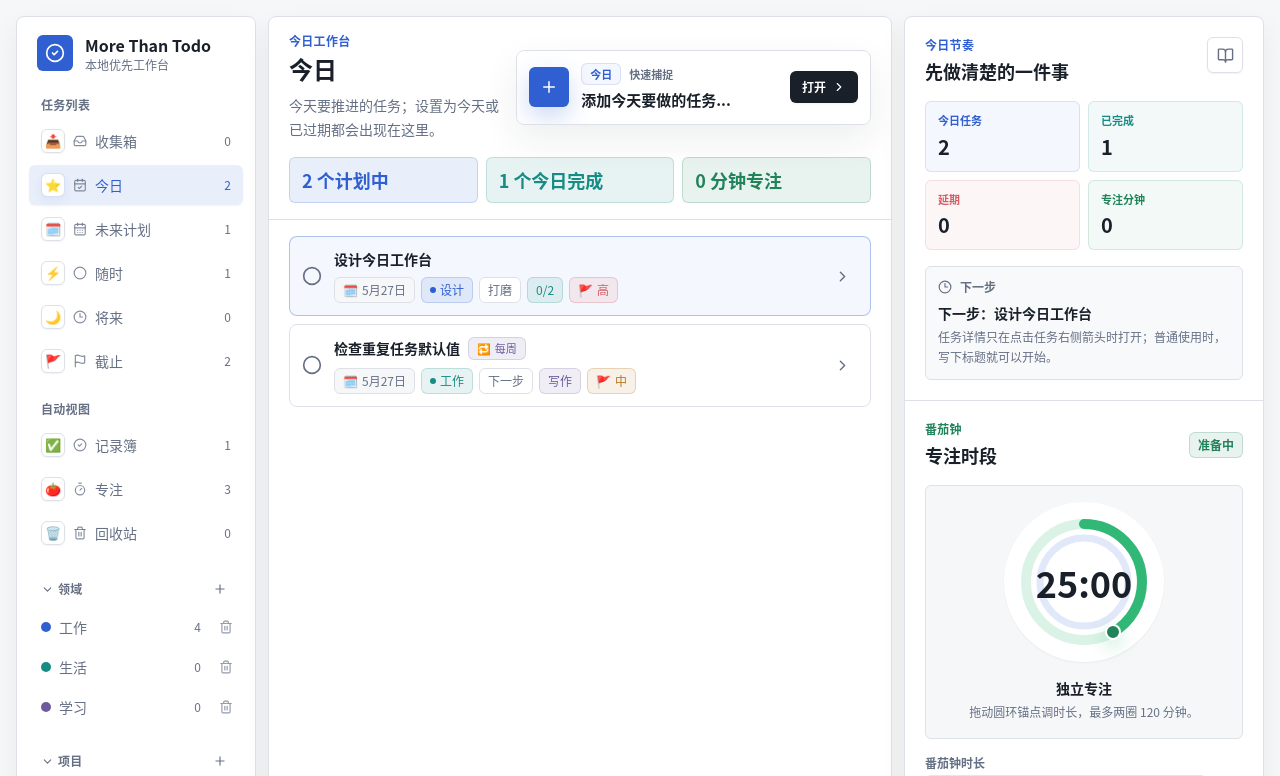
Scenario: More Than Todo app › shows future tasks in Upcoming and opens read-only task previews by date
Click the button "🗓️ 未来计划 1" at (136, 229), box [29,209,243,249]
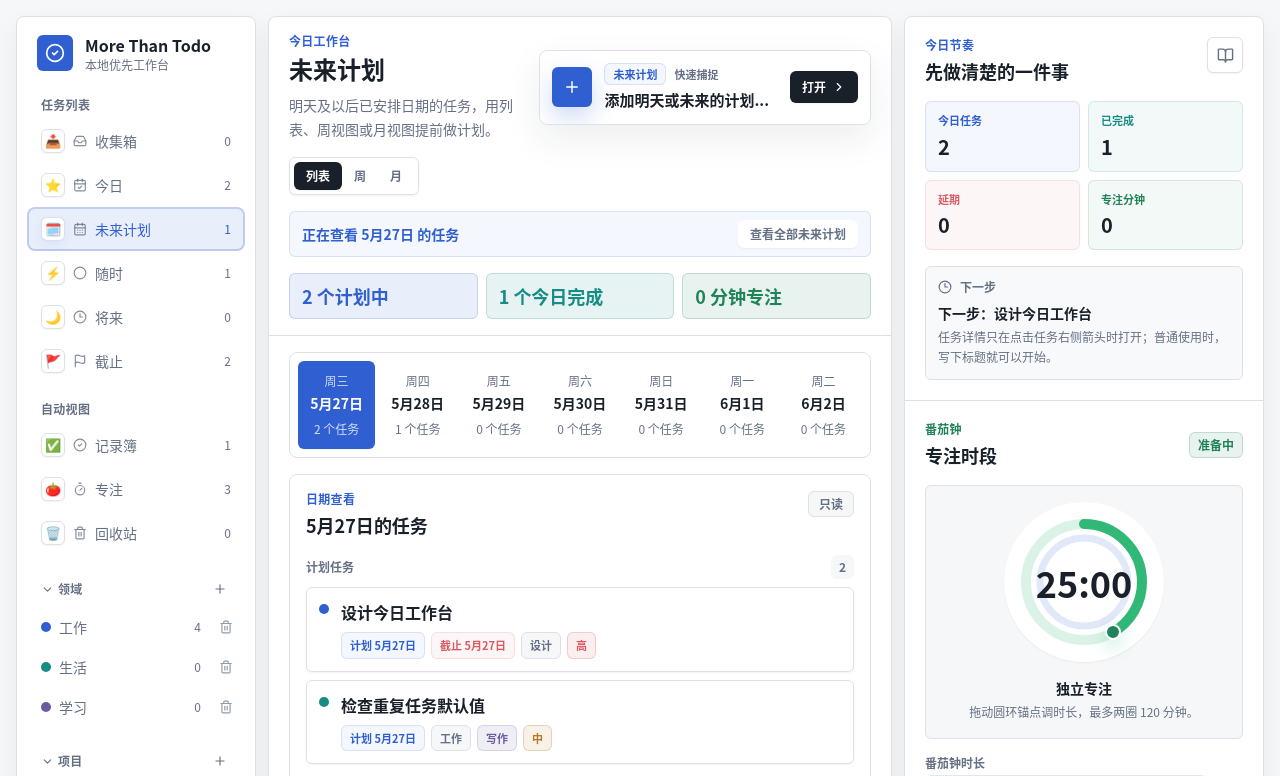
Expected: the heading "未来计划" is shown, [289,51,385,86]
Expected: the heading "5月27日的任务" is shown, [306,511,428,539]
Click the button "查看全部未来计划" at (798, 234), box [738,220,858,248]
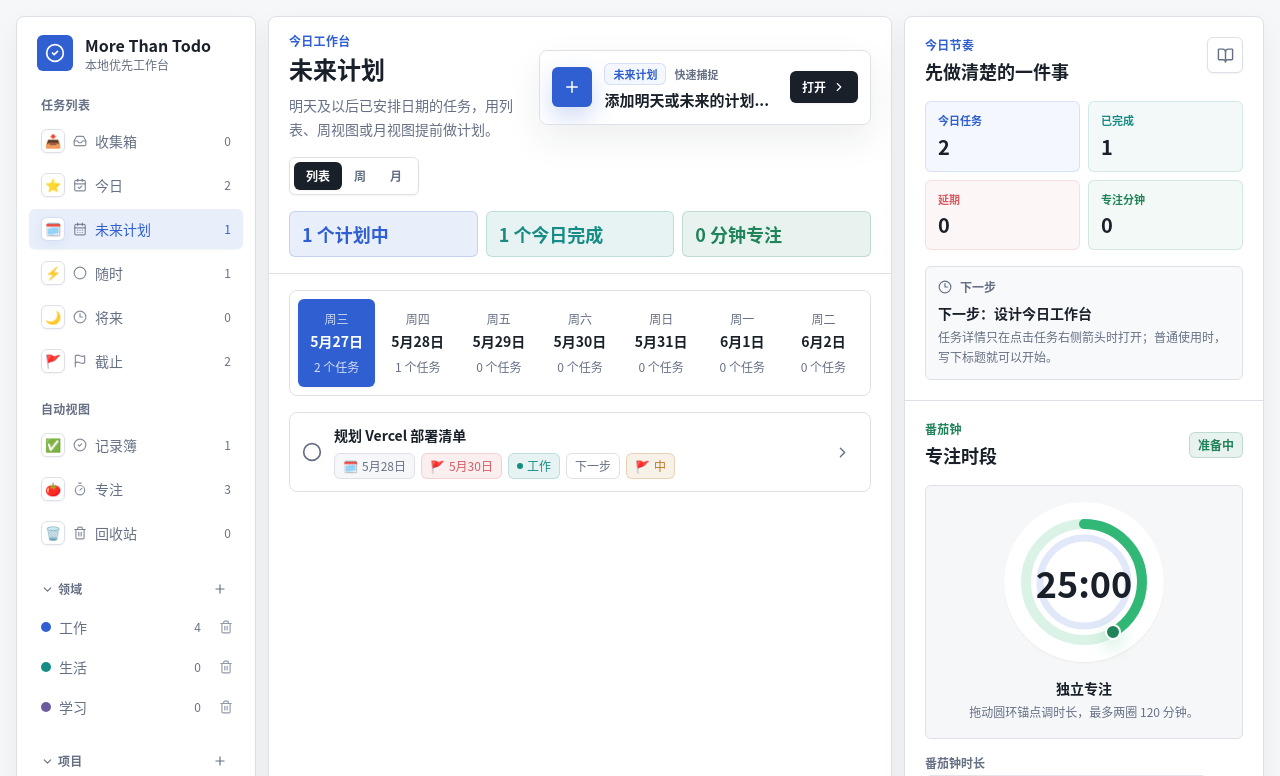
Expected: the button with aria-label "规划 Vercel 部署清单 5月28日 工作 中" is shown, [334,425,814,479]
Click the button "周" at (360, 176), box [342,162,378,190]
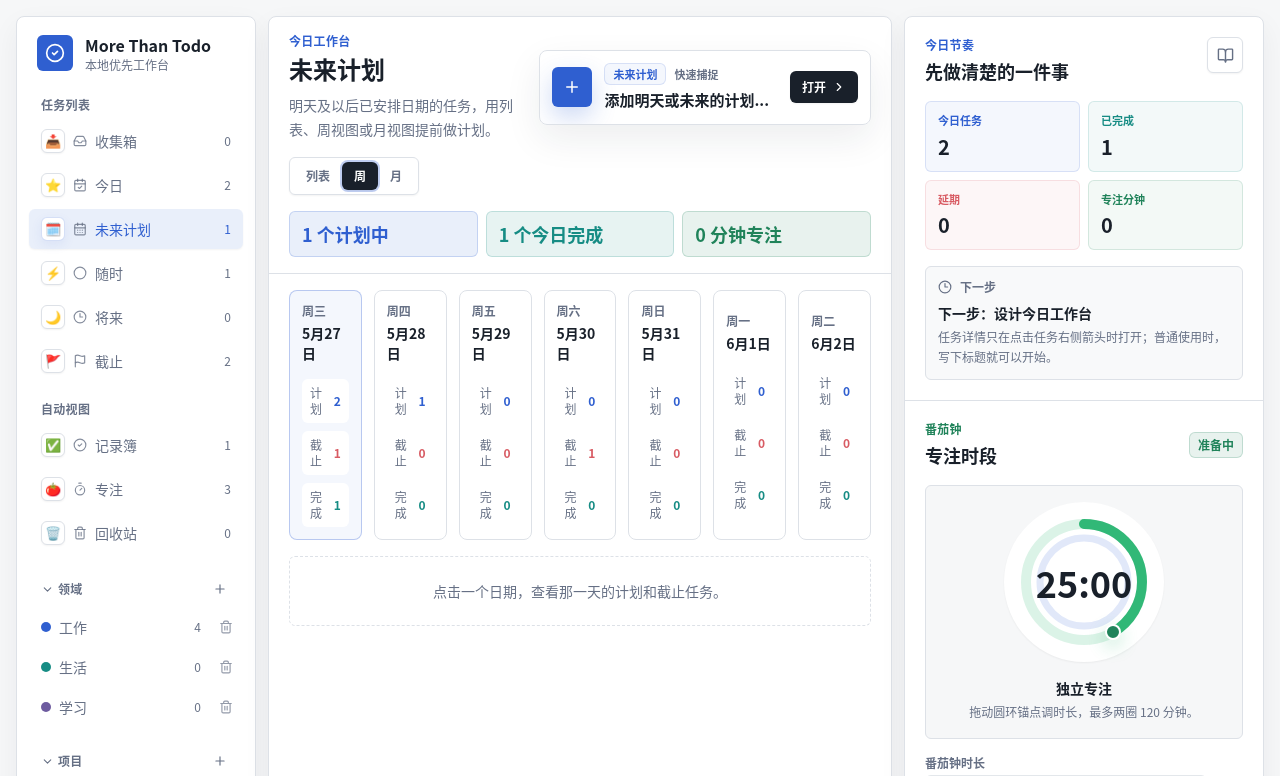
Click the button with aria-label "查看 5月28日任务" at (410, 415), box [374,290,447,540]
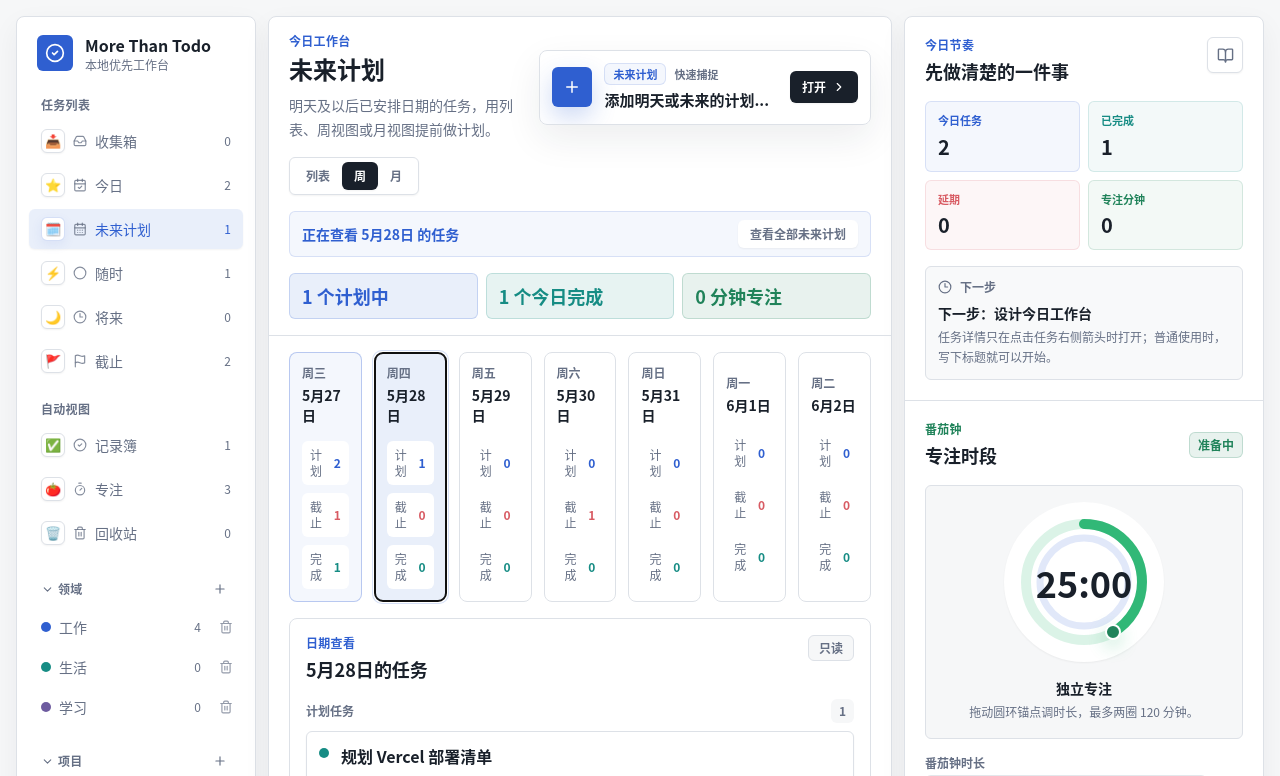
Expected: the heading "5月28日的任务" is shown, [306,655,428,683]
Expected: the text "规划 Vercel 部署清单" is shown, [341,744,492,768]
Click the button with aria-label "查看 5月29日任务" at (495, 477), box [459,352,532,602]
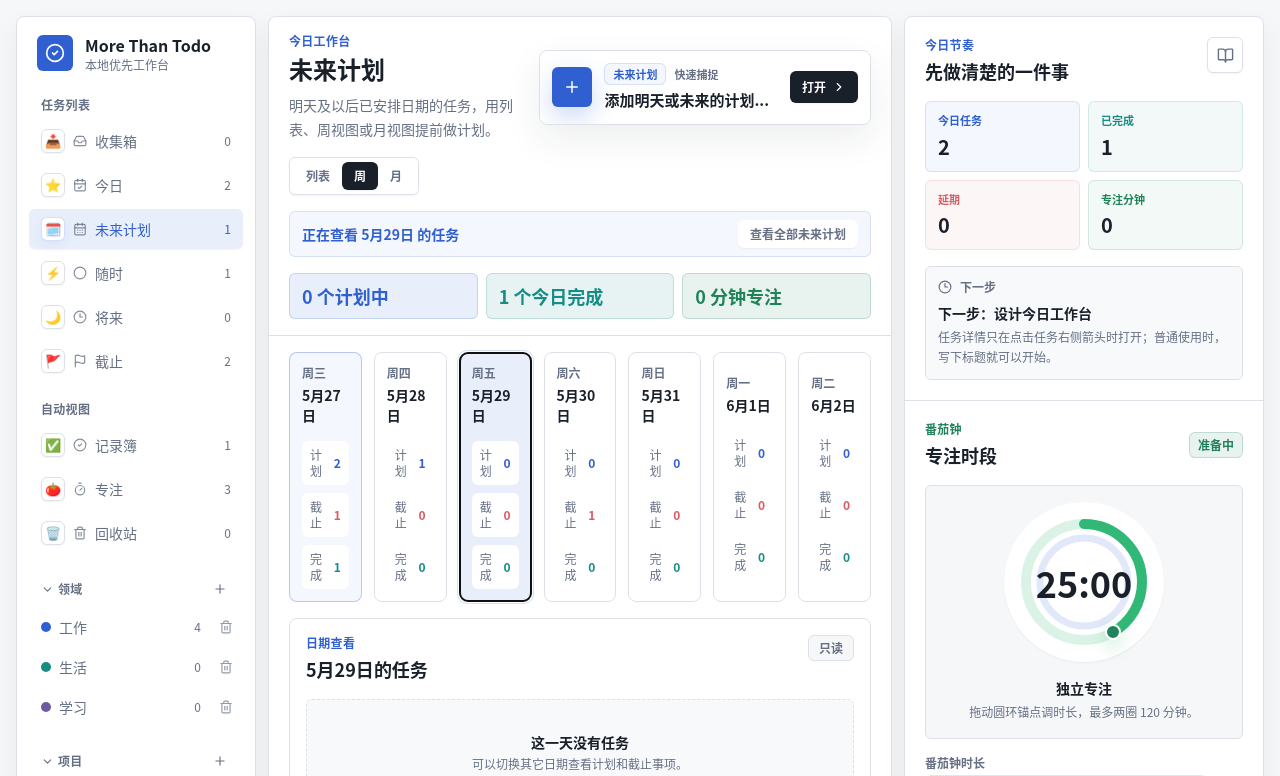
Expected: the text "这一天没有任务" is shown, [531,732,629,752]
